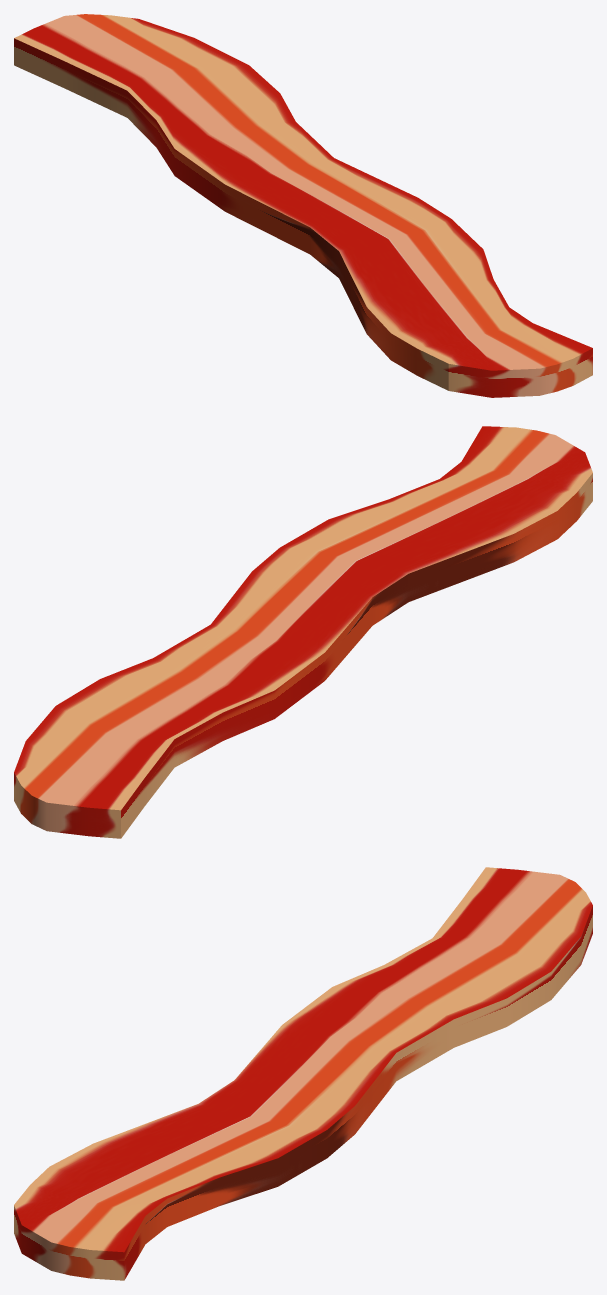
Rendered from CS_Bacon_02_DF.fbx.
3 renders of one model, top to bottom at view 1: azimuth 30°, elevation 25°; view 2: azimuth 150°, elevation 25°; view 3: azimuth 330°, elevation 25°, orthographic. The views are drawn at different scales.
Visible parts, largest first — view 1: Bacon; view 2: Bacon; view 3: Bacon.
Part boxes in pixels (<box>): Bacon: <box>14,14,592,397</box>; Bacon: <box>14,426,592,838</box>; Bacon: <box>14,867,592,1280</box>.
Size of the model in its own units: 0.0405 by 0.00635 by 0.2003.
1 material, 1 textured.
